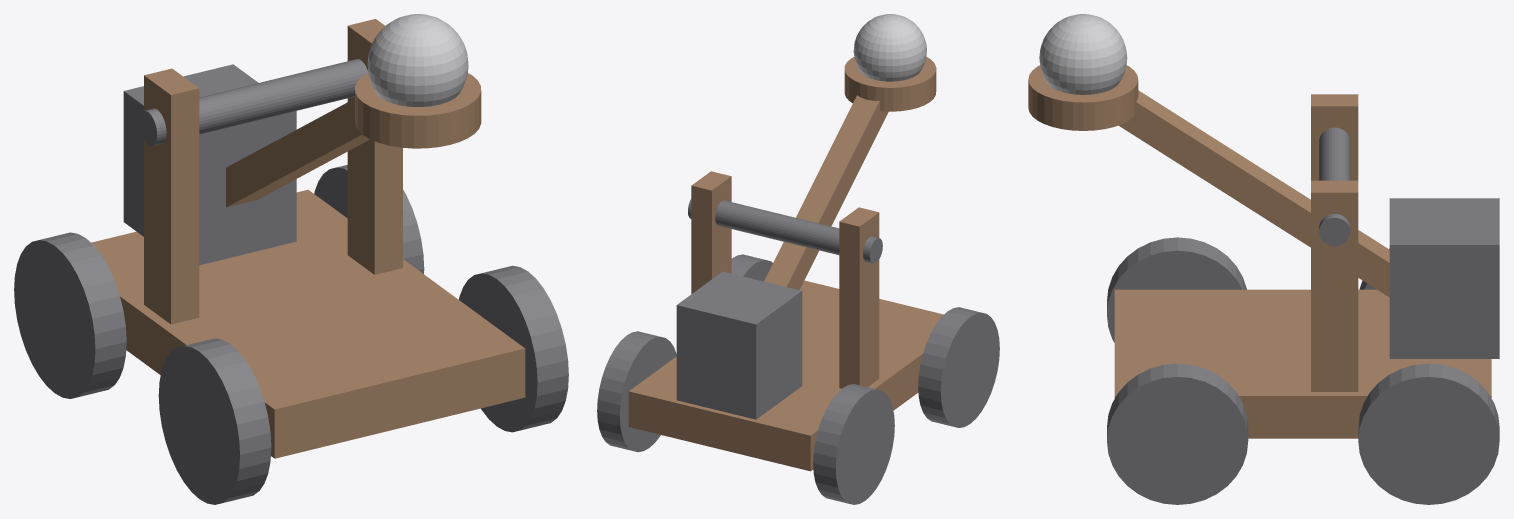
Rendered from catapult.glb.
The picture shows the model from 3 angles, left to right: view 1: azimuth 30°, elevation 25°; view 2: azimuth 150°, elevation 25°; view 3: azimuth 270°, elevation 25°; orthographic projection. The views are drawn at different scales.
Parts seen in each view (by area): view 1: Cube, Cylinder.001, Cylinder, Cube.004, Cube.001, Cylinder.002, Cube.002, Sphere, Cylinder.004, Cube.003, Cylinder.005, Cylinder.003; view 2: Cube, Cube.004, Cylinder.001, Cylinder, Cube.001, Cube.003, Cylinder.003, Sphere, Cube.002, Cylinder.004, Cylinder.005, Cylinder.002; view 3: Cube, Cube.004, Cylinder.002, Cylinder.003, Cube.003, Cube.002, Cylinder, Sphere, Cylinder.005, Cube.001, Cylinder.004.
Boxes of the visible parts, left/top/right/bottom form: Cube: left=91, top=189, right=525, bottom=458; Cylinder.001: left=14, top=232, right=126, bottom=398; Cylinder: left=158, top=338, right=271, bottom=504; Cube.004: left=123, top=64, right=296, bottom=265; Cube.001: left=144, top=68, right=199, bottom=324; Cylinder.002: left=459, top=265, right=568, bottom=432; Cube.002: left=347, top=19, right=402, bottom=274; Sphere: left=367, top=14, right=468, bottom=106; Cylinder.004: left=139, top=59, right=368, bottom=145; Cube.003: left=226, top=98, right=369, bottom=207; Cylinder.005: left=355, top=73, right=481, bottom=148; Cylinder.003: left=314, top=165, right=424, bottom=273; Cube: left=628, top=280, right=943, bottom=471; Cube.004: left=676, top=271, right=802, bottom=419; Cylinder.001: left=813, top=384, right=894, bottom=504; Cylinder: left=918, top=307, right=999, bottom=427; Cube.001: left=839, top=207, right=879, bottom=388; Cube.003: left=764, top=95, right=888, bottom=290; Cylinder.003: left=597, top=331, right=676, bottom=452; Sphere: left=853, top=14, right=926, bottom=81; Cube.002: left=691, top=171, right=731, bottom=293; Cylinder.004: left=688, top=199, right=882, bottom=263; Cylinder.005: left=844, top=56, right=936, bottom=111; Cylinder.002: left=731, top=254, right=772, bottom=281; Cube: left=1114, top=289, right=1491, bottom=438; Cube.004: left=1389, top=198, right=1499, bottom=358; Cylinder.002: left=1107, top=363, right=1248, bottom=504; Cylinder.003: left=1358, top=363, right=1499, bottom=504; Cube.003: left=1118, top=90, right=1389, bottom=297; Cube.002: left=1311, top=180, right=1358, bottom=391; Cylinder: left=1107, top=237, right=1246, bottom=342; Sphere: left=1039, top=14, right=1127, bottom=94; Cylinder.005: left=1028, top=65, right=1138, bottom=130; Cube.001: left=1311, top=94, right=1358, bottom=180; Cylinder.004: left=1319, top=127, right=1350, bottom=246.
Size of the model in its own units: 2.1 by 2.93 by 3.
